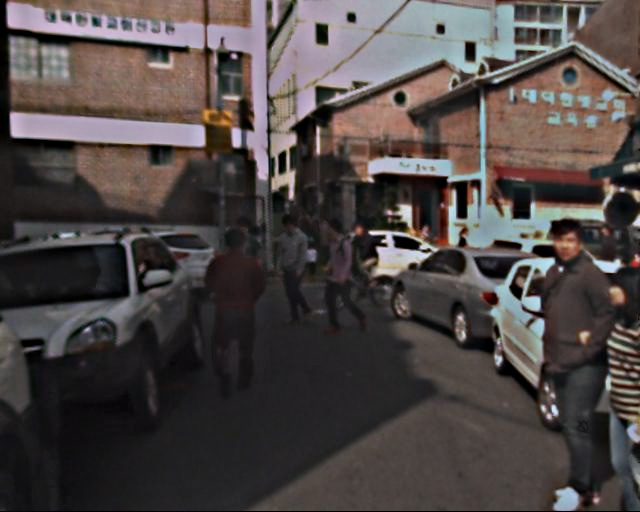person: (512, 215, 633, 511), (580, 269, 640, 510), (199, 229, 267, 396), (217, 217, 272, 350), (271, 214, 317, 326), (316, 221, 362, 333), (347, 221, 378, 297), (595, 226, 623, 294), (298, 209, 325, 275), (414, 224, 436, 278), (455, 227, 476, 278)
